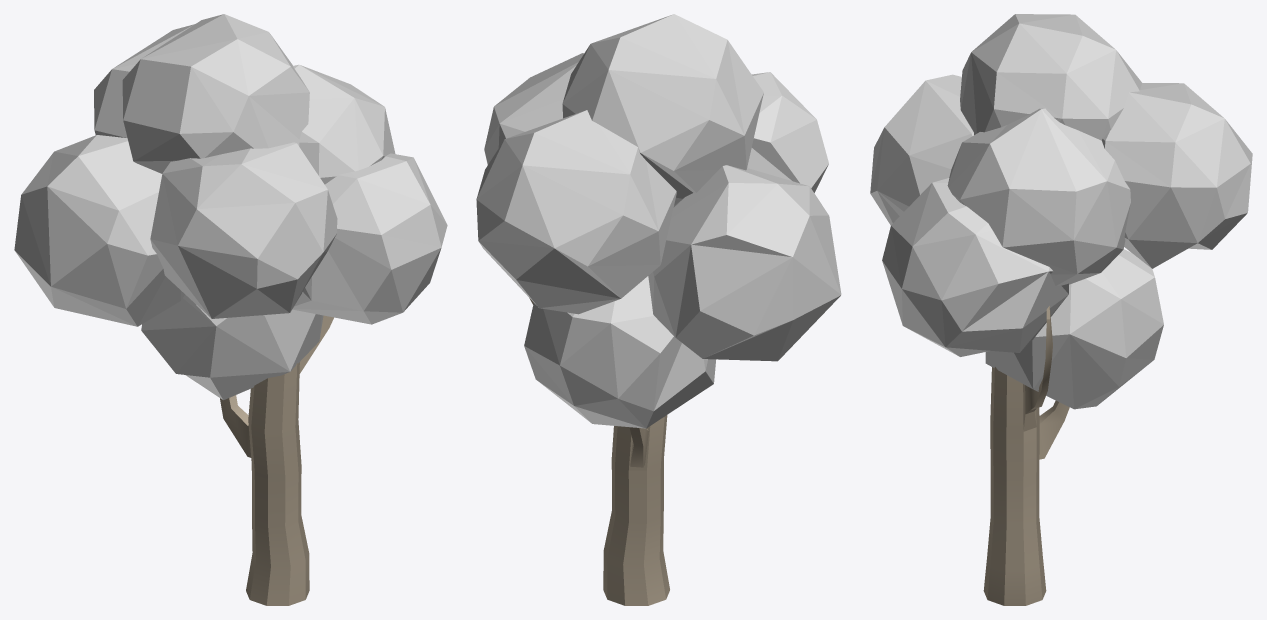
Rendered from Tree2.fbx.
3 views of the same model, side by side, from view 1: azimuth 30°, elevation 25°; view 2: azimuth 150°, elevation 25°; view 3: azimuth 270°, elevation 25° (orthographic). The views are drawn at different scales.
Visible parts, largest first — view 1: pSphere3, pSphere8, pSphere6, pSphere5, Wood, pSphere4, pSphere2, pSphere7; view 2: pSphere7, pSphere8, pSphere6, pSphere4, Wood, pSphere3, pSphere2; view 3: pSphere2, pSphere5, pSphere7, pSphere6, pSphere4, Wood, pSphere3.
Boxes of the visible parts, x1=… form: pSphere3: x1=150, y1=142, x2=337, y2=318; pSphere8: x1=14, y1=135, x2=184, y2=326; pSphere6: x1=122, y1=14, x2=309, y2=173; pSphere5: x1=292, y1=153, x2=447, y2=324; Wood: x1=220, y1=315, x2=333, y2=605; pSphere4: x1=141, y1=294, x2=323, y2=400; pSphere2: x1=293, y1=64, x2=395, y2=184; pSphere7: x1=94, y1=24, x2=194, y2=137; pSphere7: x1=476, y1=110, x2=676, y2=314; pSphere8: x1=648, y1=165, x2=841, y2=361; pSphere6: x1=562, y1=14, x2=763, y2=205; pSphere4: x1=524, y1=276, x2=716, y2=428; Wood: x1=529, y1=298, x2=669, y2=605; pSphere3: x1=747, y1=72, x2=828, y2=192; pSphere2: x1=484, y1=53, x2=583, y2=164; pSphere2: x1=947, y1=108, x2=1130, y2=285; pSphere5: x1=882, y1=178, x2=1068, y2=356; pSphere7: x1=1102, y1=83, x2=1252, y2=268; pSphere6: x1=960, y1=14, x2=1141, y2=140; pSphere4: x1=985, y1=249, x2=1163, y2=409; Wood: x1=983, y1=306, x2=1069, y2=605; pSphere3: x1=870, y1=74, x2=973, y2=225.
Bounding box in the file's own units: 2.26 × 3.51 × 2.21.
Materials: 2 (1 with a texture image).
